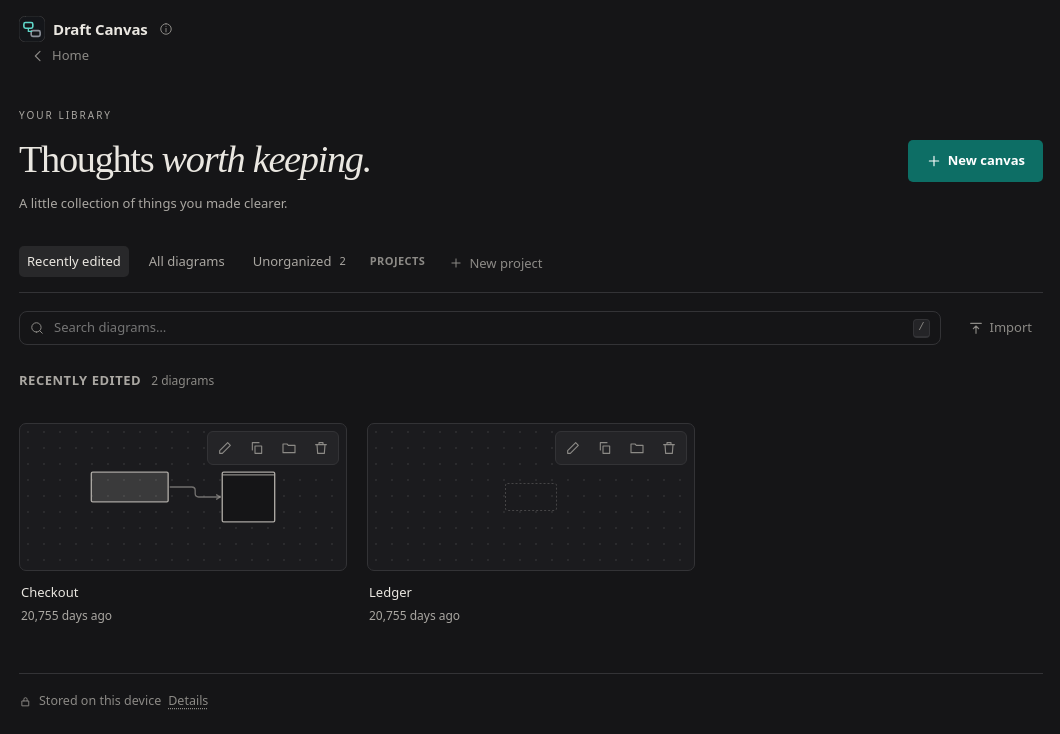
LibraryScreen — search › counts matches, names a miss, and clears in one click
Type "led" into the search field named "Search diagrams".
click(479, 328); type("led")  # box [52,317,905,339]
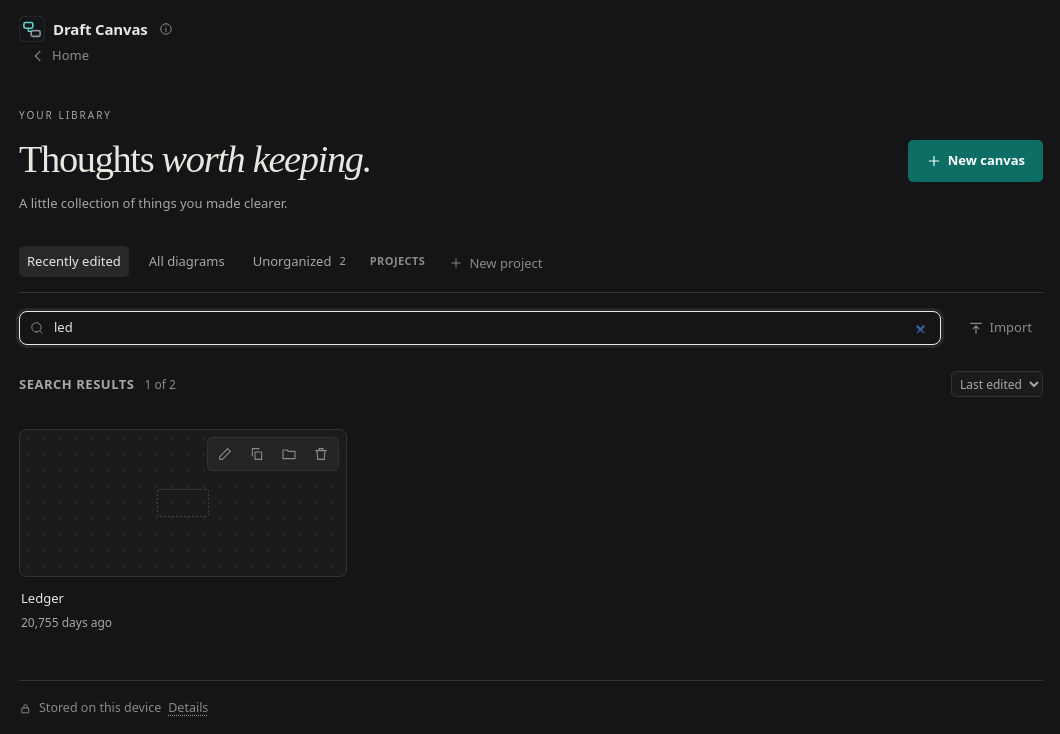
Expected: the heading "Search results" is shown, [19,375,134,394]
Expected: the text "1 of 2" is shown, [144,376,176,394]
Type "xx" into the search field named "Search diagrams".
click(491, 328); type("xx")  # box [52,317,930,339]
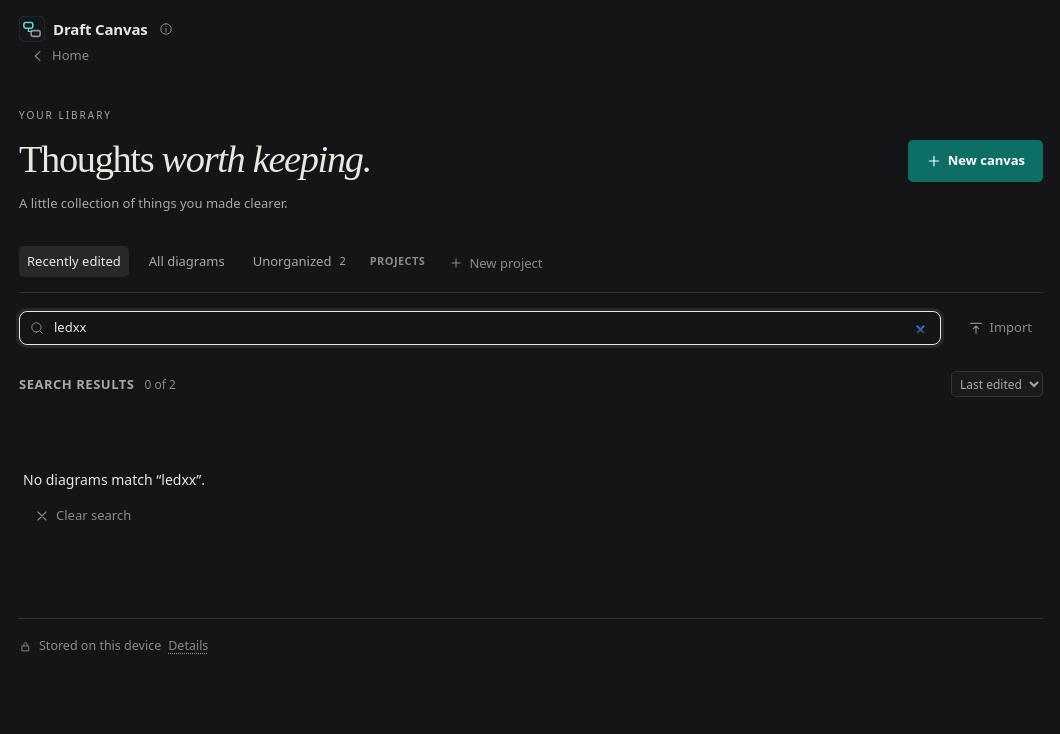
Expected: the text "No diagrams match “ledxx”." is shown, [23,470,205,489]
Click the button "Clear search".
click(83, 516)  # box [23,502,142,530]
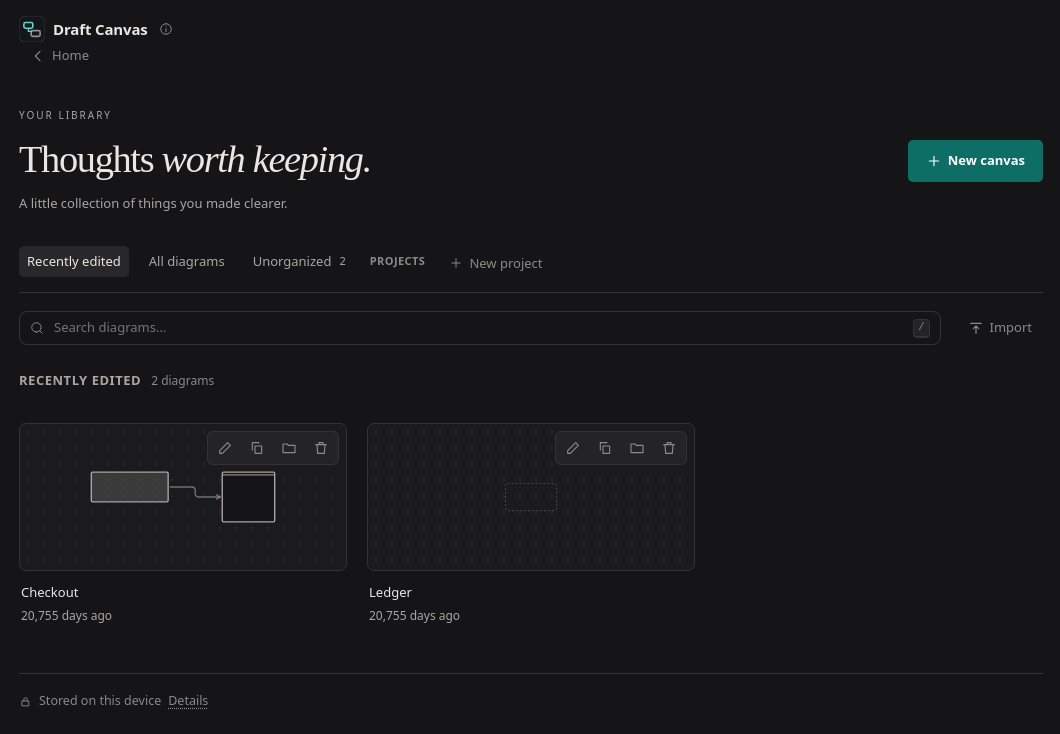
Expected: the search field named "Search diagrams" is empty, [52,317,905,339]
Expected: the heading "Recently edited" is shown, [19,371,141,391]
Expected: the button "Ledger 20,755 days ago" is shown, [367,423,695,625]
